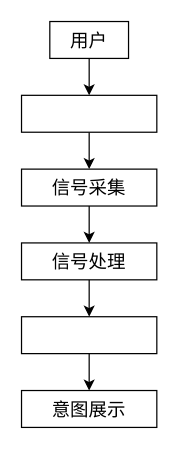
Image size: 178x449. Some labels were removed from this diagram. The centre of each missing label's shape, as x and y in pixels:
"信号识别" belongs at point 88,334.
"刺激范式" belongs at point 88,113.
